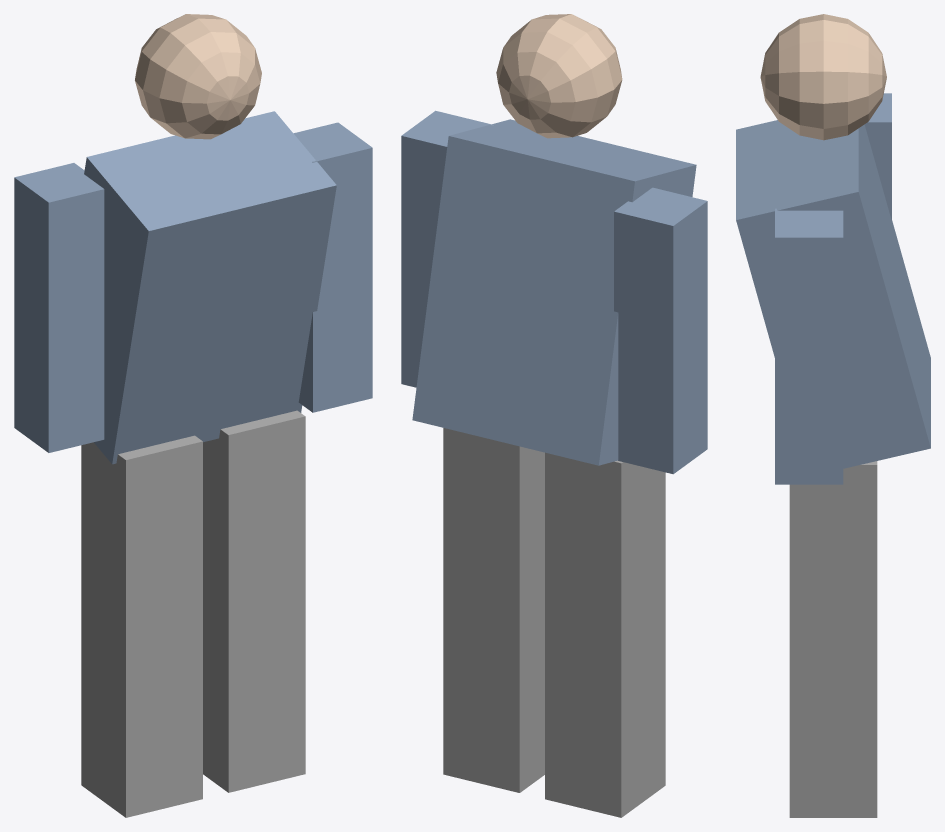
Rendered from pickup_object.glb.
3 views of the same model, side by side, from view 1: azimuth 30°, elevation 25°; view 2: azimuth 150°, elevation 25°; view 3: azimuth 270°, elevation 25° (orthographic).
Parts seen in each view (by area): view 1: torso, leg_l, leg_r, arm_l, arm_r, head; view 2: torso, leg_l, leg_r, arm_l, head, arm_r; view 3: torso, leg_r, arm_r, head, arm_l.
Part boxes in pixels (<box>): torso: <box>84,111,336,464</box>; leg_l: <box>81,435,202,817</box>; leg_r: <box>203,410,305,792</box>; arm_l: <box>14,163,104,452</box>; arm_r: <box>293,122,372,412</box>; head: <box>135,14,261,139</box>; torso: <box>412,119,696,465</box>; leg_l: <box>545,452,665,817</box>; leg_r: <box>443,428,544,792</box>; arm_l: <box>614,187,707,474</box>; head: <box>496,14,622,138</box>; arm_r: <box>401,110,494,387</box>; torso: <box>736,120,930,468</box>; leg_r: <box>789,461,877,817</box>; arm_r: <box>775,208,843,484</box>; head: <box>760,14,886,140</box>; arm_l: <box>864,93,891,220</box>.
Bounding box in the file's own units: 0.7001 × 1.71 × 0.4002.
